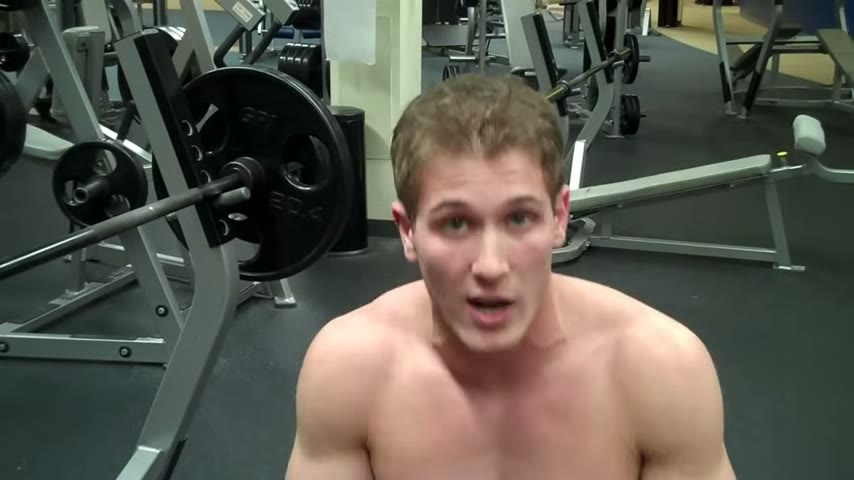barbell_plate_side: (171, 29, 375, 472)
